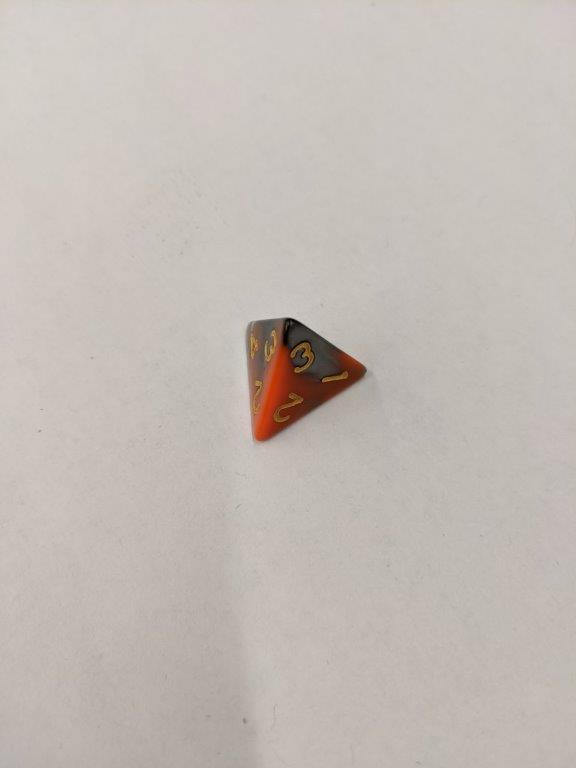d4-3: (243, 313, 373, 447)
